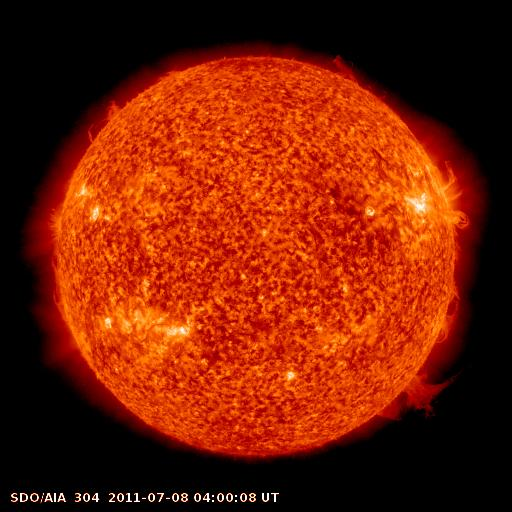prominence: (369, 361, 467, 429), (436, 156, 480, 234), (42, 242, 78, 322), (430, 276, 465, 343), (317, 47, 367, 92), (83, 93, 124, 146)
